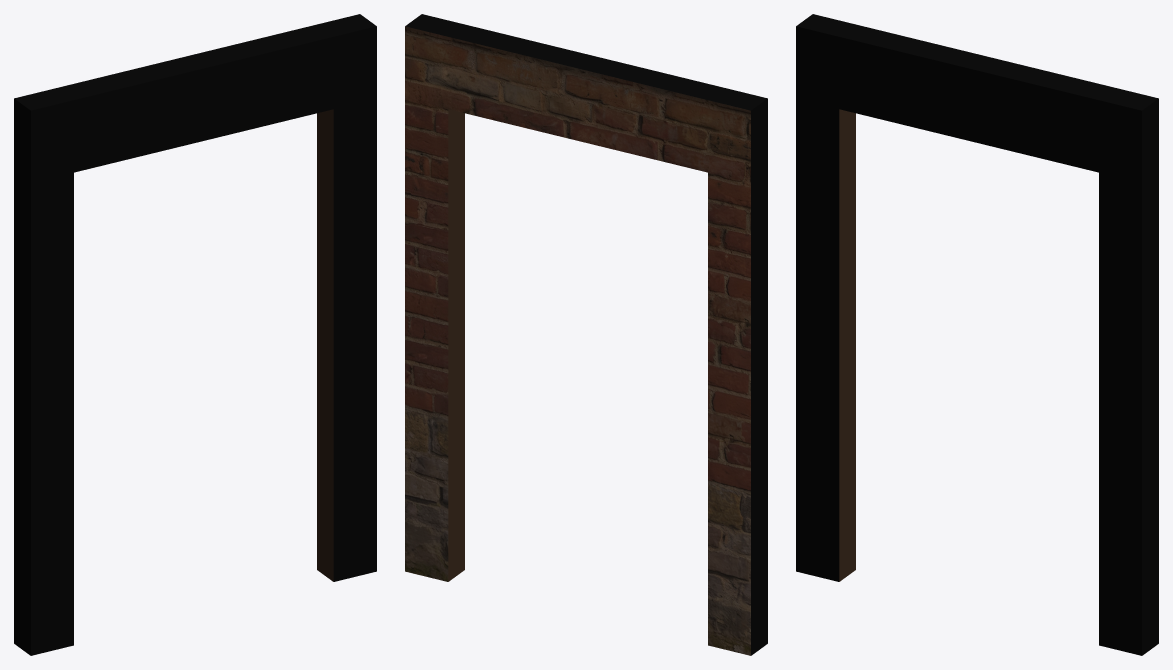
Rendered from Brick_Wall_Door.fbx.
3 views of the same model, side by side, from view 1: azimuth 30°, elevation 25°; view 2: azimuth 150°, elevation 25°; view 3: azimuth 330°, elevation 25° (orthographic).
Parts seen in each view (by area): view 1: Cube.199; view 2: Cube.199; view 3: Cube.199.
Part boxes in pixels (x1,y1,x2,y2): Cube.199: [14, 14, 376, 655]; Cube.199: [405, 14, 767, 655]; Cube.199: [796, 14, 1158, 655].
Size of the model in its own units: 0.1683 by 2 by 3.01.
3 materials, 1 textured.
